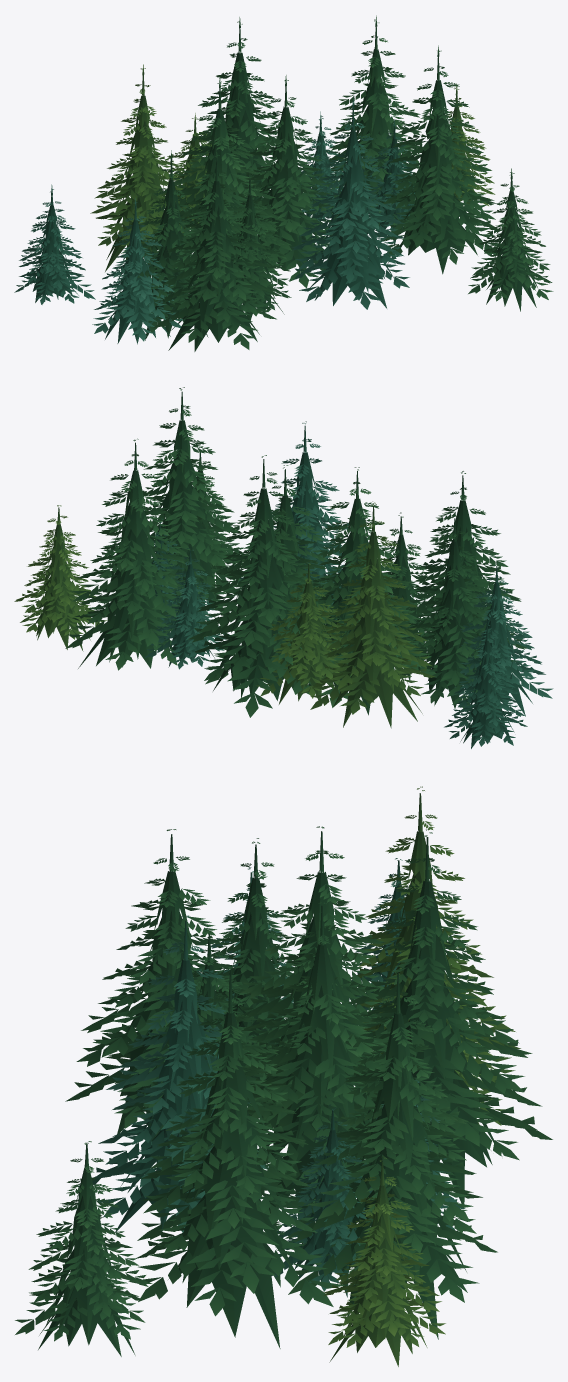
The picture shows the model from 3 angles, top to bottom: view 1: azimuth 30°, elevation 25°; view 2: azimuth 150°, elevation 25°; view 3: azimuth 270°, elevation 25°; orthographic projection. The views are drawn at different scales.
Visible parts, largest first — view 1: pn_29; view 2: pn_29; view 3: pn_29.
Part boxes in pixels (x1,y1,x2,y2): pn_29: [14, 15, 553, 351]; pn_29: [14, 387, 553, 748]; pn_29: [15, 786, 552, 1366].
Bounding box in the file's own units: 34.93 × 17.91 × 21.89.
1 material, 1 textured.
